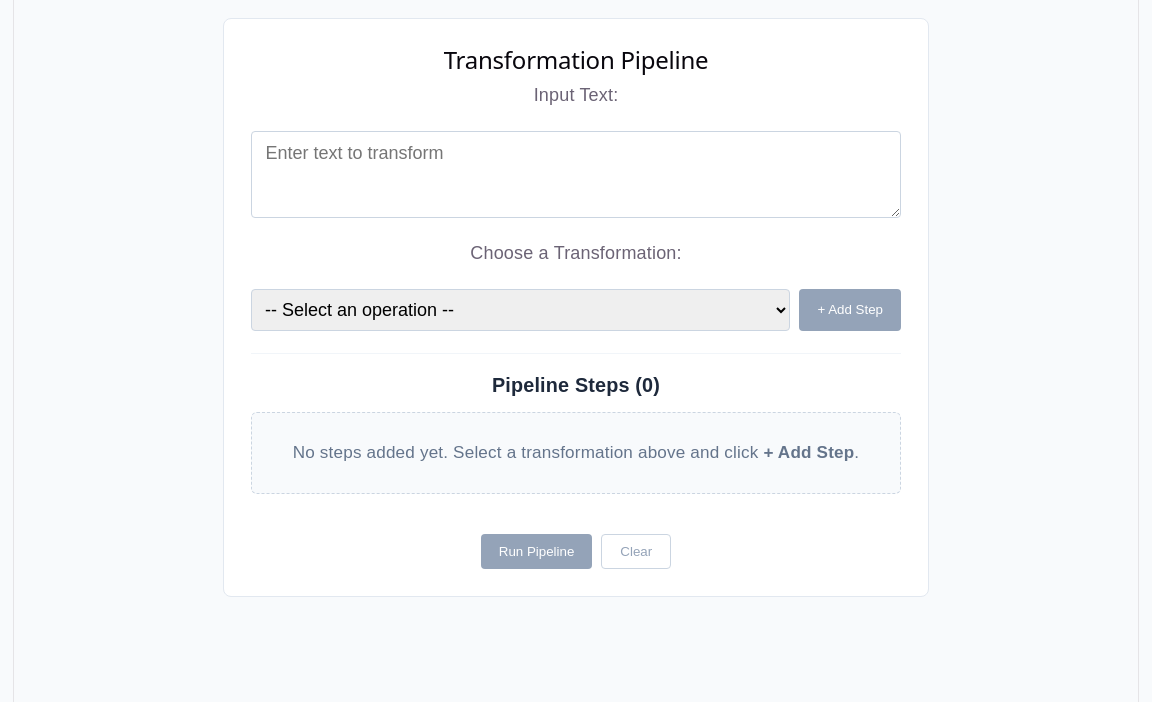
Test: TransformationPipeline › clearing the pipeline › clears the input text, the steps and the result
The width and height of the screenshot is (1152, 702).
Type "banana" into the text box with id "input-text" at (576, 174), box [251, 131, 901, 218]
Select "Uppercase" in the dropdown labelled "Choose a Transformation:" at (521, 310), box [251, 289, 790, 331]
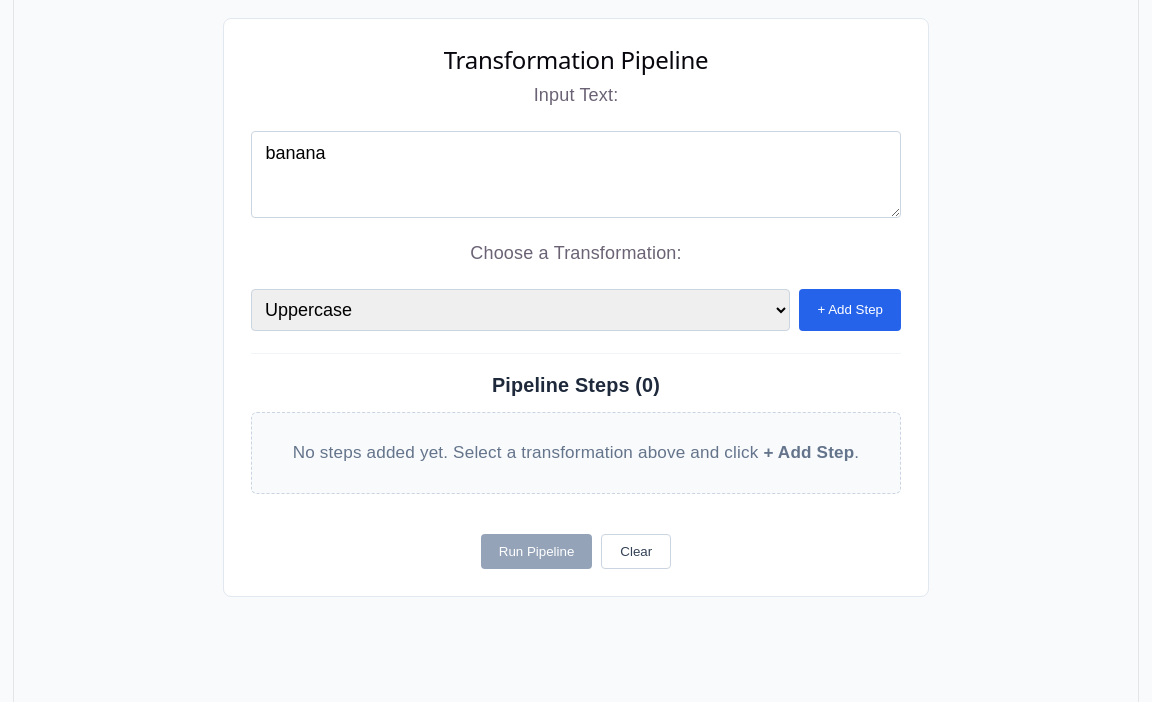
Click the button "+ Add Step" at (850, 310), box [799, 289, 901, 331]
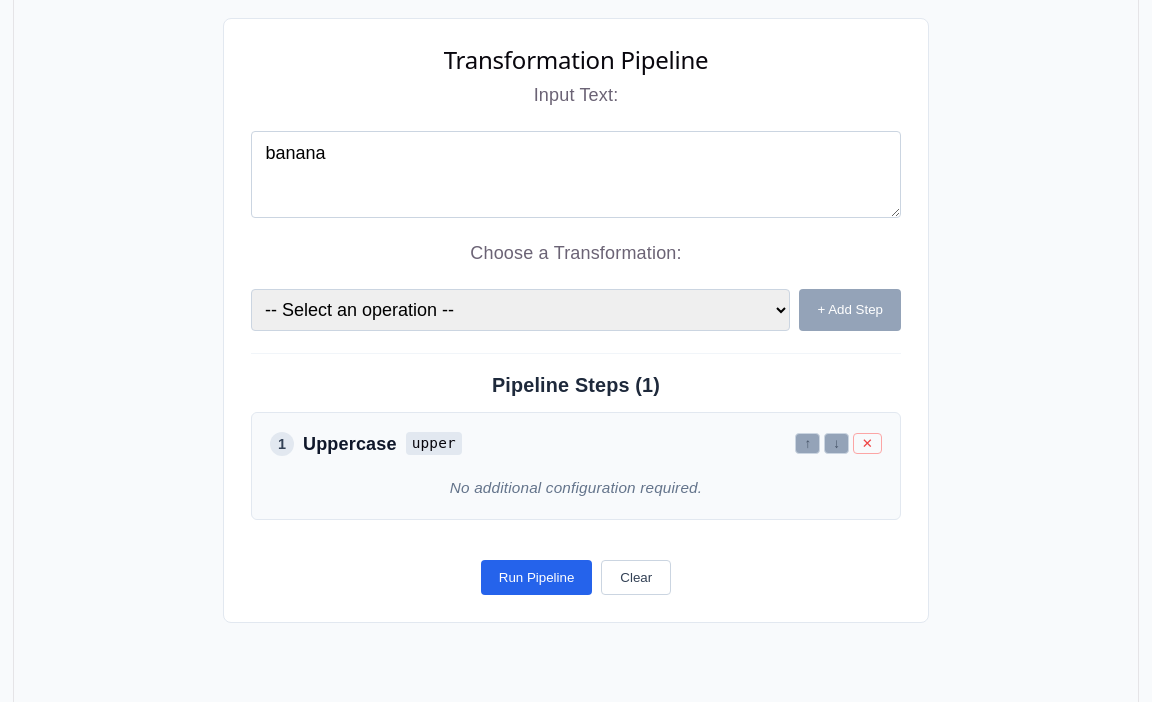
Select "Replace" in the dropdown labelled "Choose a Transformation:" at (521, 310), box [251, 289, 790, 331]
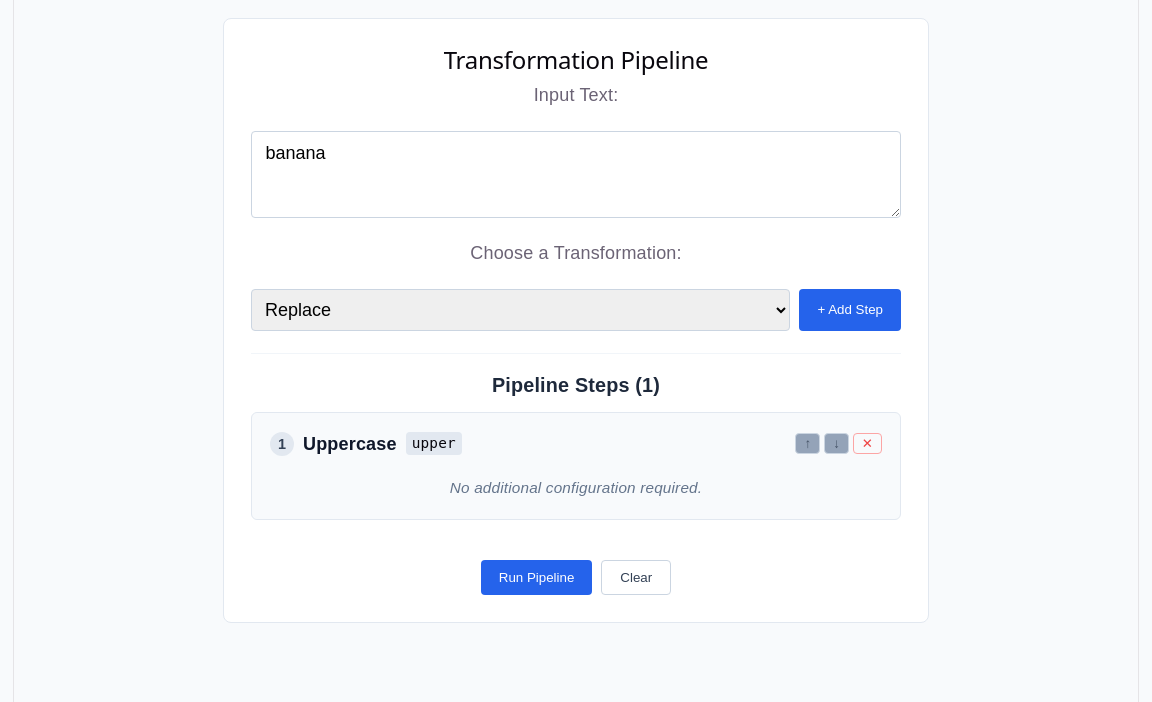
Click the button "+ Add Step" at (850, 310), box [799, 289, 901, 331]
(page scrolled)
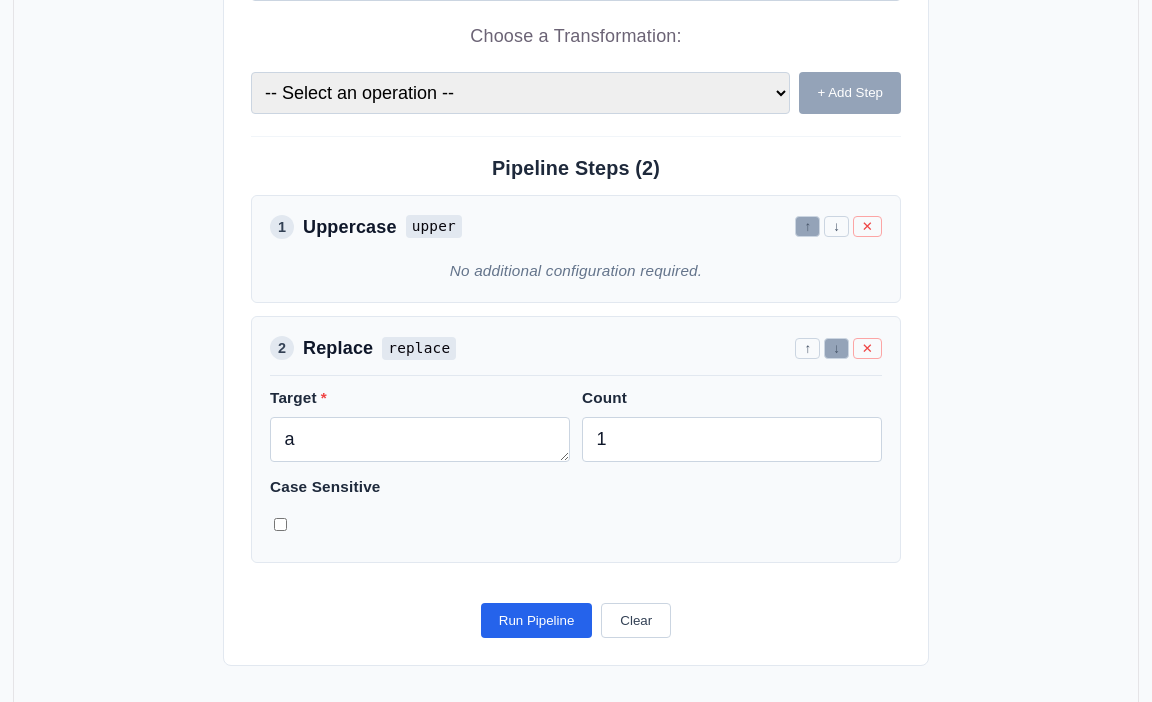
Click the button "Run Pipeline" at (537, 621), box [481, 603, 592, 638]
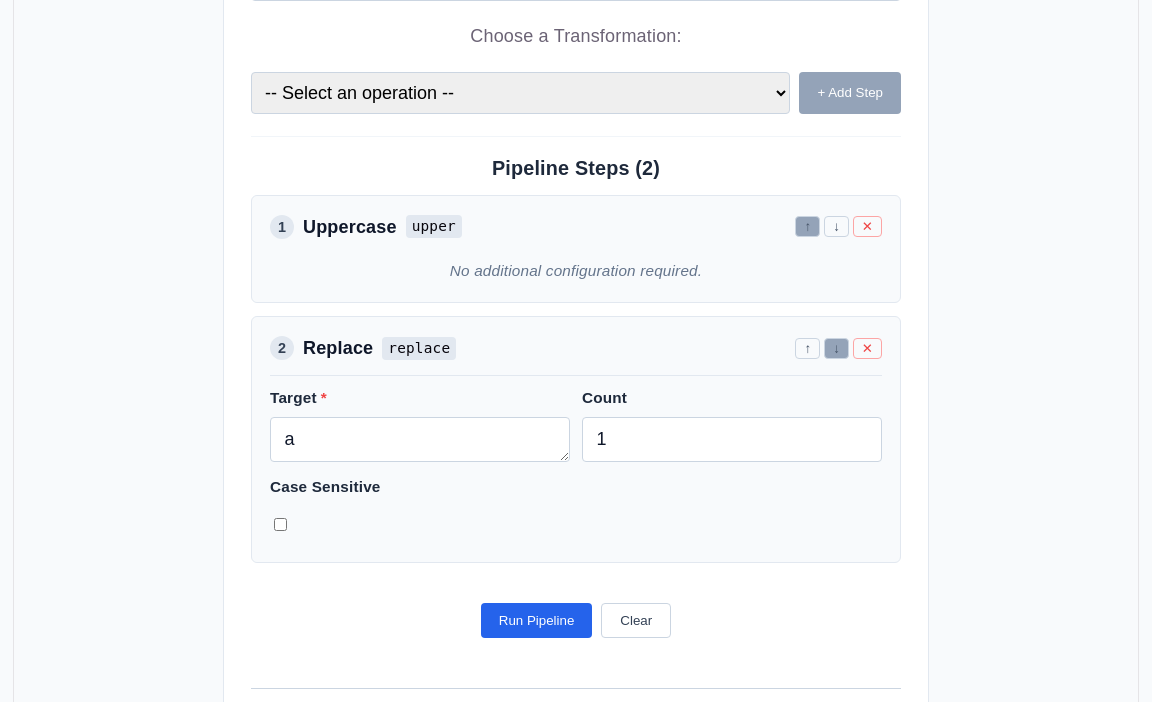
Click the button "Clear" at (636, 621), box [601, 603, 671, 638]
(page scrolled)
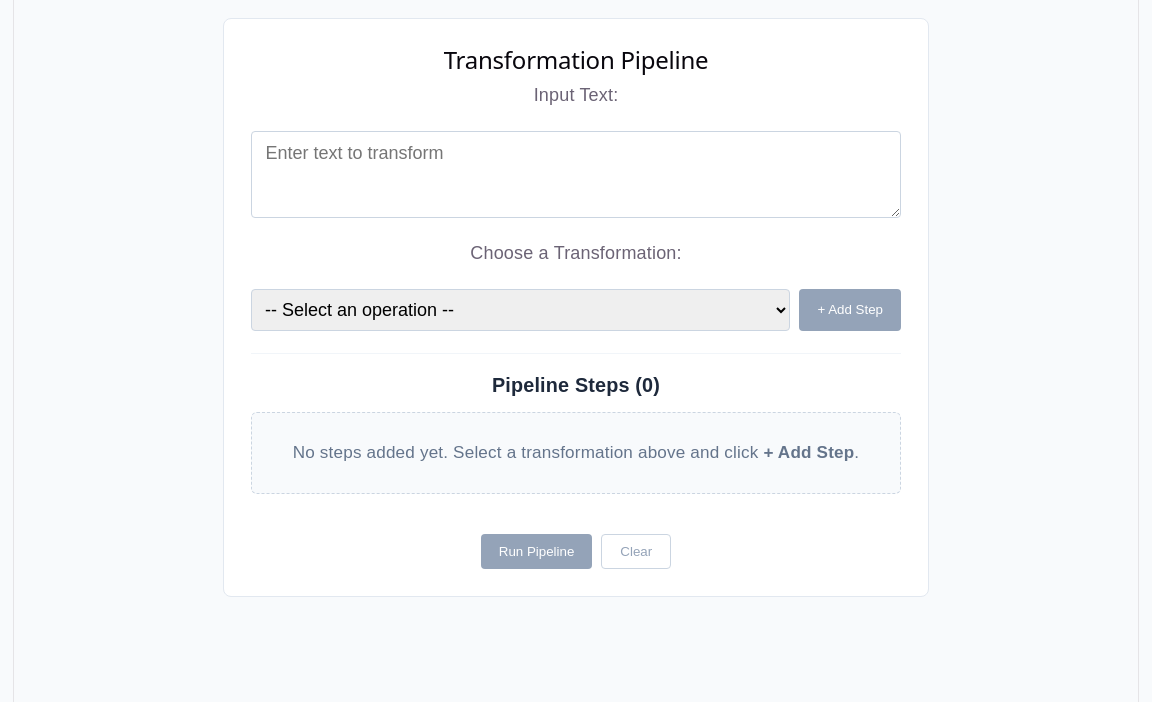
Check: the text box with id "input-text" is empty, box [251, 131, 901, 218]
Check: the element with class "empty-state" is shown, box [251, 412, 901, 494]
